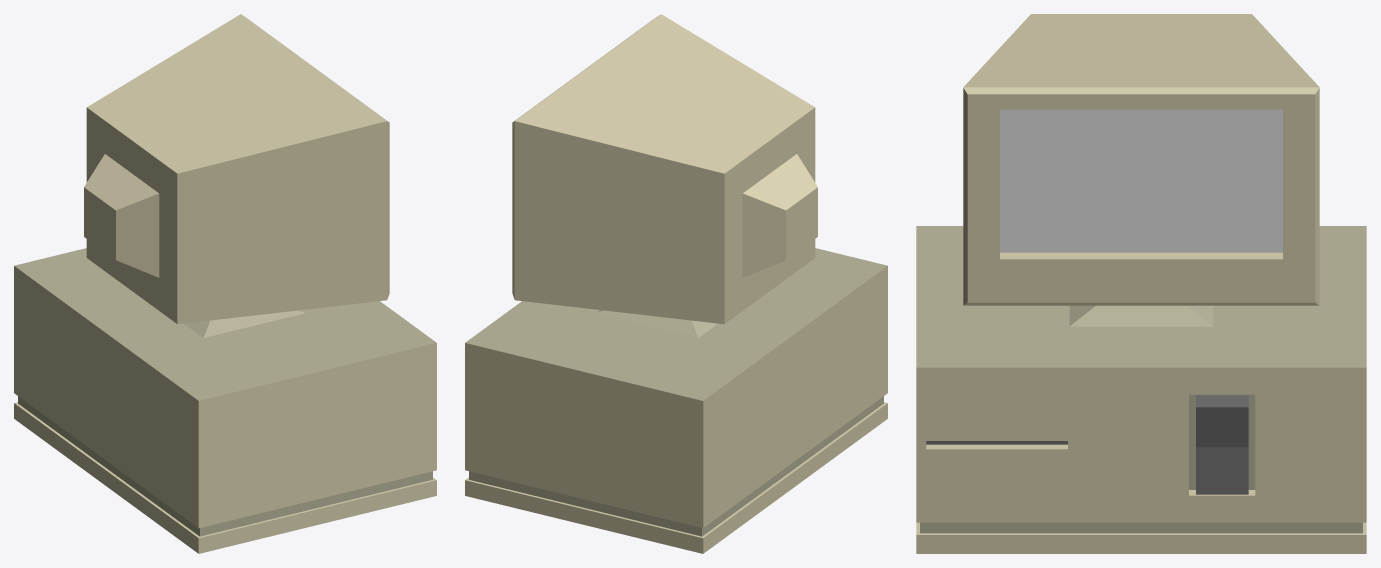
Rendered from monitorwithpc.fbx.
3 renders of one model, left to right at view 1: azimuth 30°, elevation 25°; view 2: azimuth 150°, elevation 25°; view 3: azimuth 270°, elevation 25°, orthographic. The views are drawn at different scales.
Parts seen in each view (by area): view 1: Plane; view 2: Plane; view 3: Plane.
Part boxes in pixels (x1,y1,x2,y2): Plane: (14,14,436,553); Plane: (465,14,887,553); Plane: (916,14,1366,553).
Size of the model in its own units: 319 by 440 by 400.
